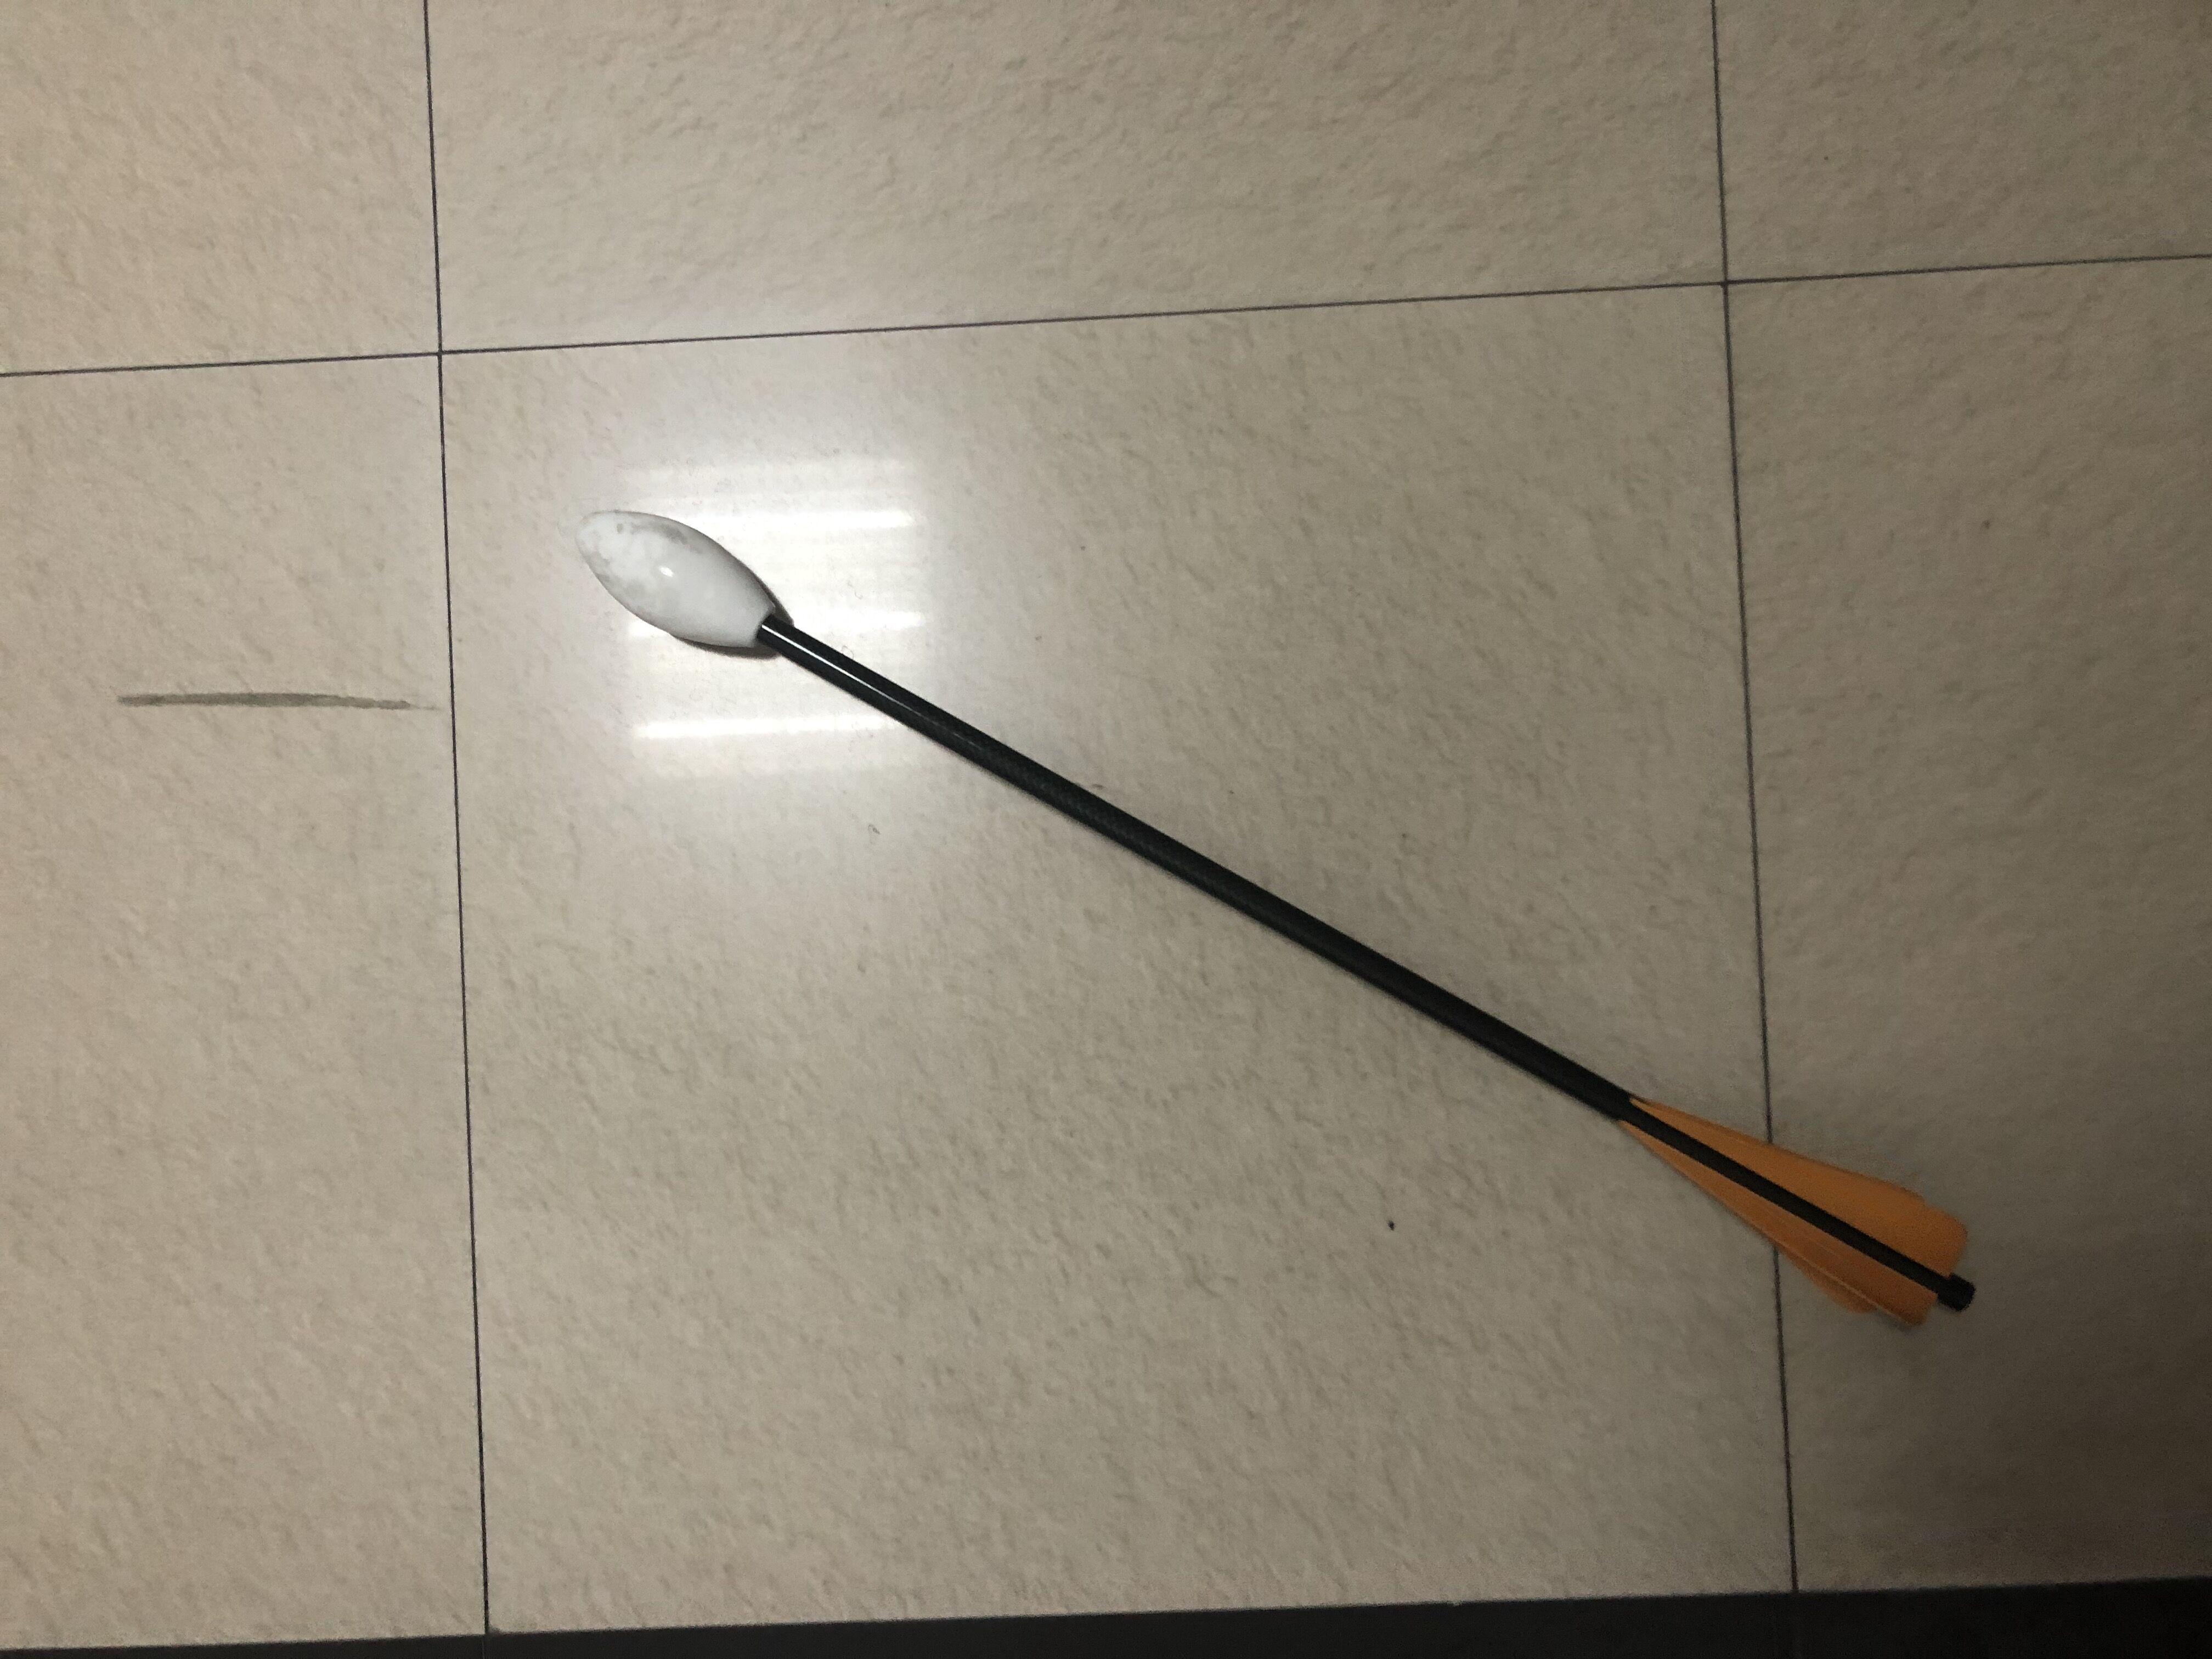arrow: (573, 504, 1986, 1340)
arrowFront: (577, 507, 780, 659)
